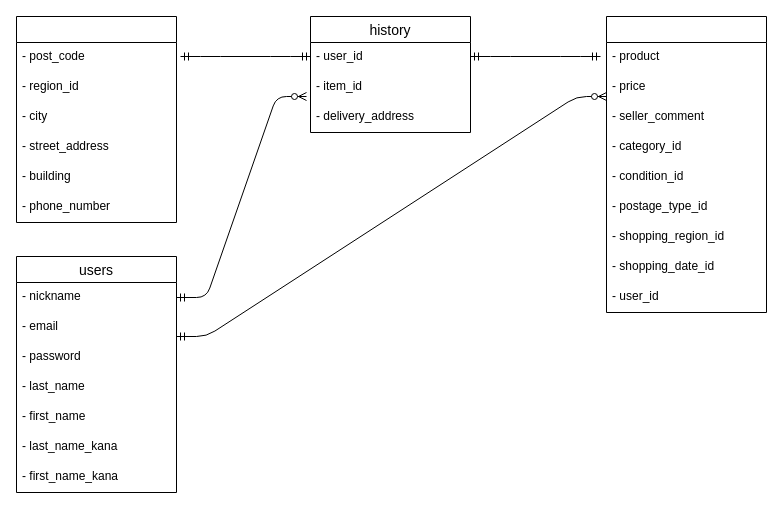
This 783x509 diagram has some shape labels left out. Here are the shapes that lost their labels. From the top down, the box of each, then its label:
(16, 16, 176, 222): deliveries
(606, 16, 766, 312): items
